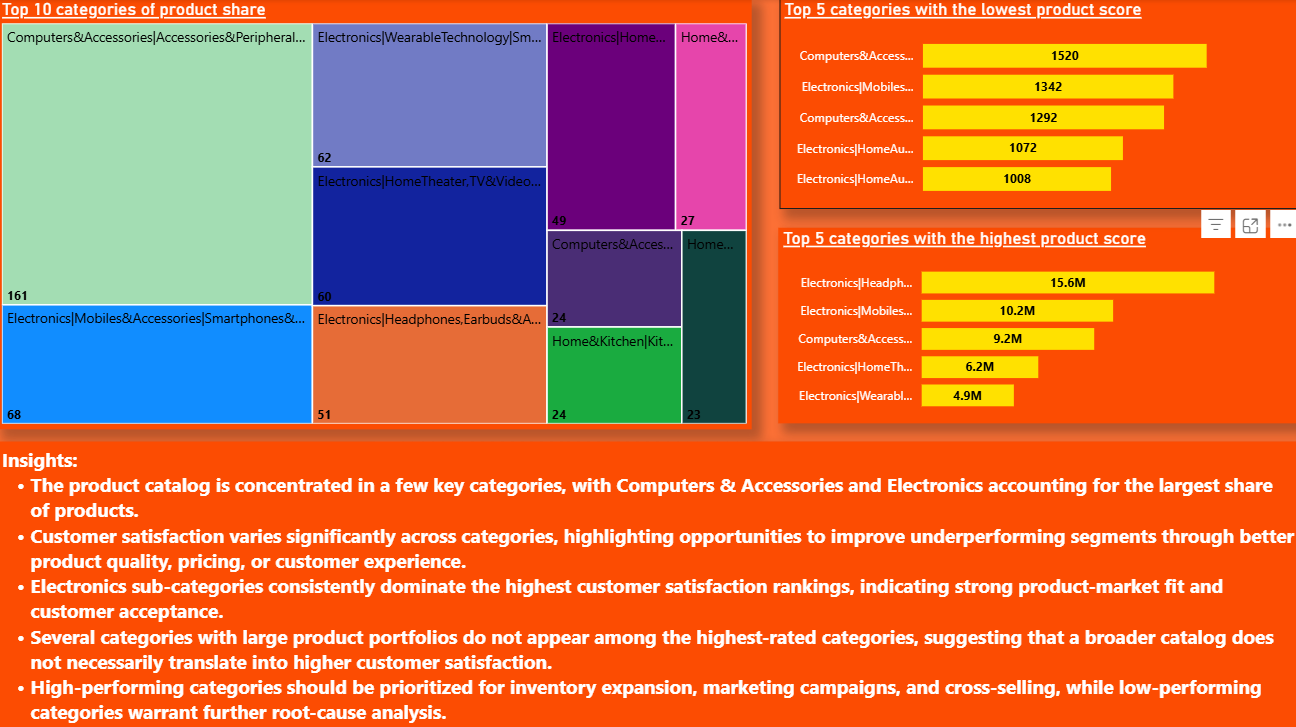

The page's visual inventory and layout, read from the dashboard file:
{"tool":"powerbi","page":{"name":"Category analysis","canvas":[1280,720],"ordinal":3},"visuals":[{"type":"treemap","title":"Top 10 categories of product share","fields":{"Group":["products.category"],"Values":["Count(products.product_id)"]},"box":[0,0,740.8,422],"z":0},{"type":"barChart","title":"Top 5 categories with the highest product score","fields":{"Category":["products.category"],"Y":["DAX measures.Product score"]},"box":[766.3,224.6,513.7,192.3],"z":1000},{"type":"barChart","title":"Top 5 categories with the lowest product score","fields":{"Category":["products.category"],"Y":["DAX measures.Product score"]},"box":[767.9,0,512.4,206.5],"z":2000},{"type":"textbox","box":[0,434.9,1280.3,283.9],"z":3000}]}

Visuals, with their boxes in screenshot pixels (x1, y1, x2, y2), scaled from the page's 1280x720 canvas onto the 1296x727 screenshot:
"Top 10 categories of product share" treemap: 0,0,750,426
"Top 5 categories with the highest product score" barChart: 776,227,1295,421
"Top 5 categories with the lowest product score" barChart: 777,0,1295,209
textbox: 0,439,1295,726
